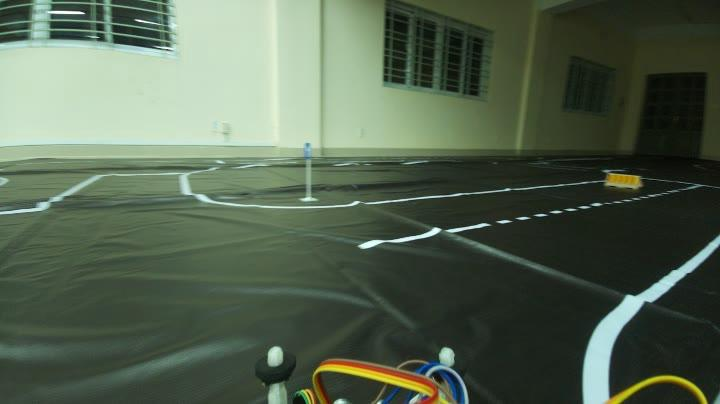onewayroad: (300, 141, 312, 158)
